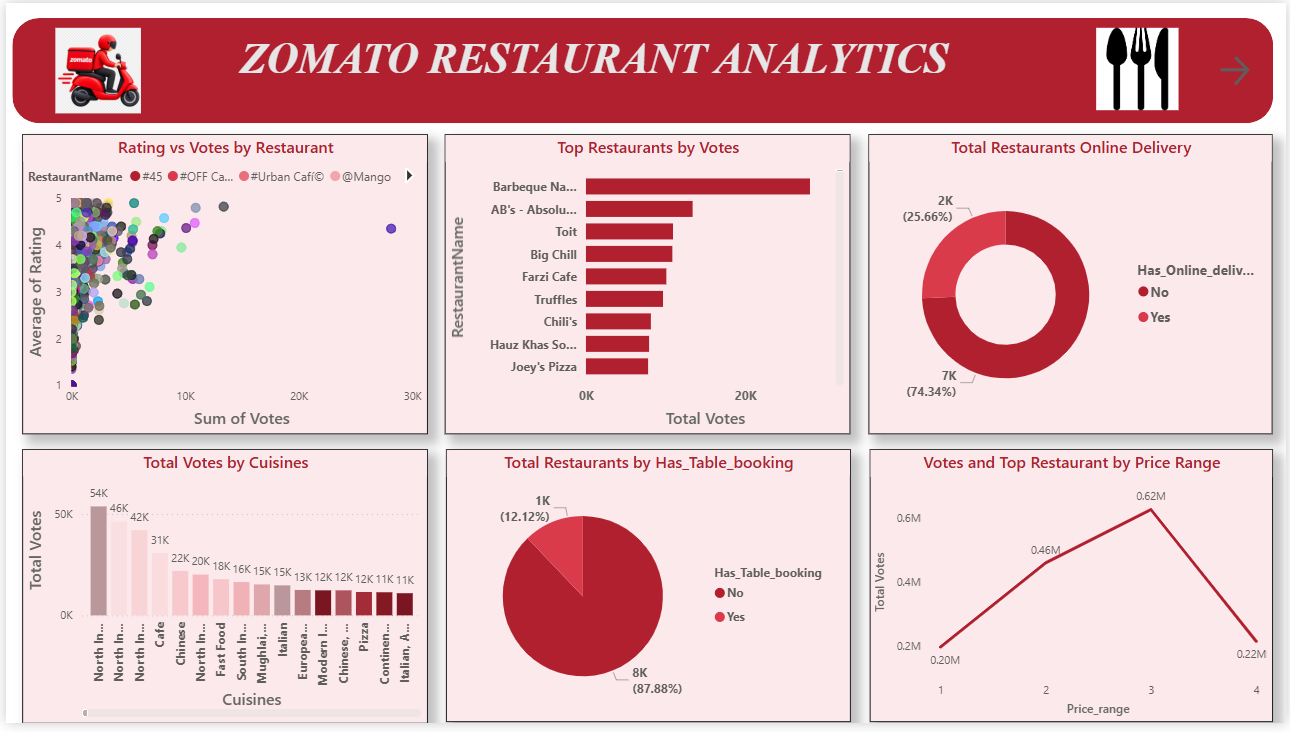

The page's visual inventory and layout, read from the dashboard file:
{"tool":"powerbi","page":{"name":"Restaurant & Customer Insights","canvas":[1280,720],"ordinal":1},"visuals":[{"type":"shape","box":[5.8,14.4,1261,105.3],"z":0},{"type":"textbox","box":[92.3,14.4,991.2,98.1],"z":1000},{"type":"image","box":[43.3,20.2,96.7,95.2],"z":2000},{"type":"image","box":[1083.5,20.2,95.2,92.3],"z":3000},{"type":"actionButton","box":[1209,47.6,39,40.4],"z":4000},{"type":"scatterChart","title":"Rating vs Votes by Restaurant","fields":{"X":["Sum(Sheet1.Votes)"],"Y":["Avg(Sheet1.Rating)"],"Series":["Sheet1.RestaurantName"]},"box":[15.9,131.3,405.4,300.1],"z":5000},{"type":"clusteredBarChart","title":"Top Restaurants by Votes","fields":{"Category":["Sheet1.RestaurantName"],"Y":["Sheet1.Total Votes"]},"box":[439.3,131.3,405.4,300.1],"z":6000},{"type":"donutChart","title":"Total Restaurants Online Delivery","fields":{"Category":["Sheet1.Has_Online_delivery"],"Y":["Sheet1.Total Restaurants"]},"box":[862.8,131.3,404,300.1],"z":7000},{"type":"clusteredColumnChart","fields":{"Category":["Sheet1.Cuisines"],"Y":["Sheet1.Total Votes"]},"box":[15.9,445.8,405.4,274.1],"z":8000},{"type":"pieChart","fields":{"Y":["Sheet1.Total Restaurants"],"Category":["Sheet1.Has_Table_booking"]},"box":[440.3,446.3,404.5,273.1],"z":9000},{"type":"lineChart","title":"Votes and Top Restaurant by Price Range","fields":{"Y":["Sheet1.Total Votes"],"Category":["Sheet1.Price_range"]},"box":[864.3,445.7,402.9,272.9],"z":10000}]}

Visuals, with their boxes in screenshot pixels (x1, y1, x2, y2), scaled from the page's 1280x720 canvas onto the 1290x732 screenshot:
shape: l=6, t=15, r=1277, b=122
textbox: l=93, t=15, r=1092, b=114
image: l=44, t=21, r=141, b=117
image: l=1092, t=21, r=1188, b=114
actionButton: l=1218, t=48, r=1258, b=89
"Rating vs Votes by Restaurant" scatterChart: l=16, t=133, r=425, b=439
"Top Restaurants by Votes" clusteredBarChart: l=443, t=133, r=851, b=439
"Total Restaurants Online Delivery" donutChart: l=870, t=133, r=1277, b=439
clusteredColumnChart - Sheet1.Cuisines x Sheet1.Total Votes: l=16, t=453, r=425, b=731
pieChart - Sheet1.Total Restaurants x Sheet1.Has_Table_booking: l=444, t=454, r=851, b=731
"Votes and Top Restaurant by Price Range" lineChart: l=871, t=453, r=1277, b=731
